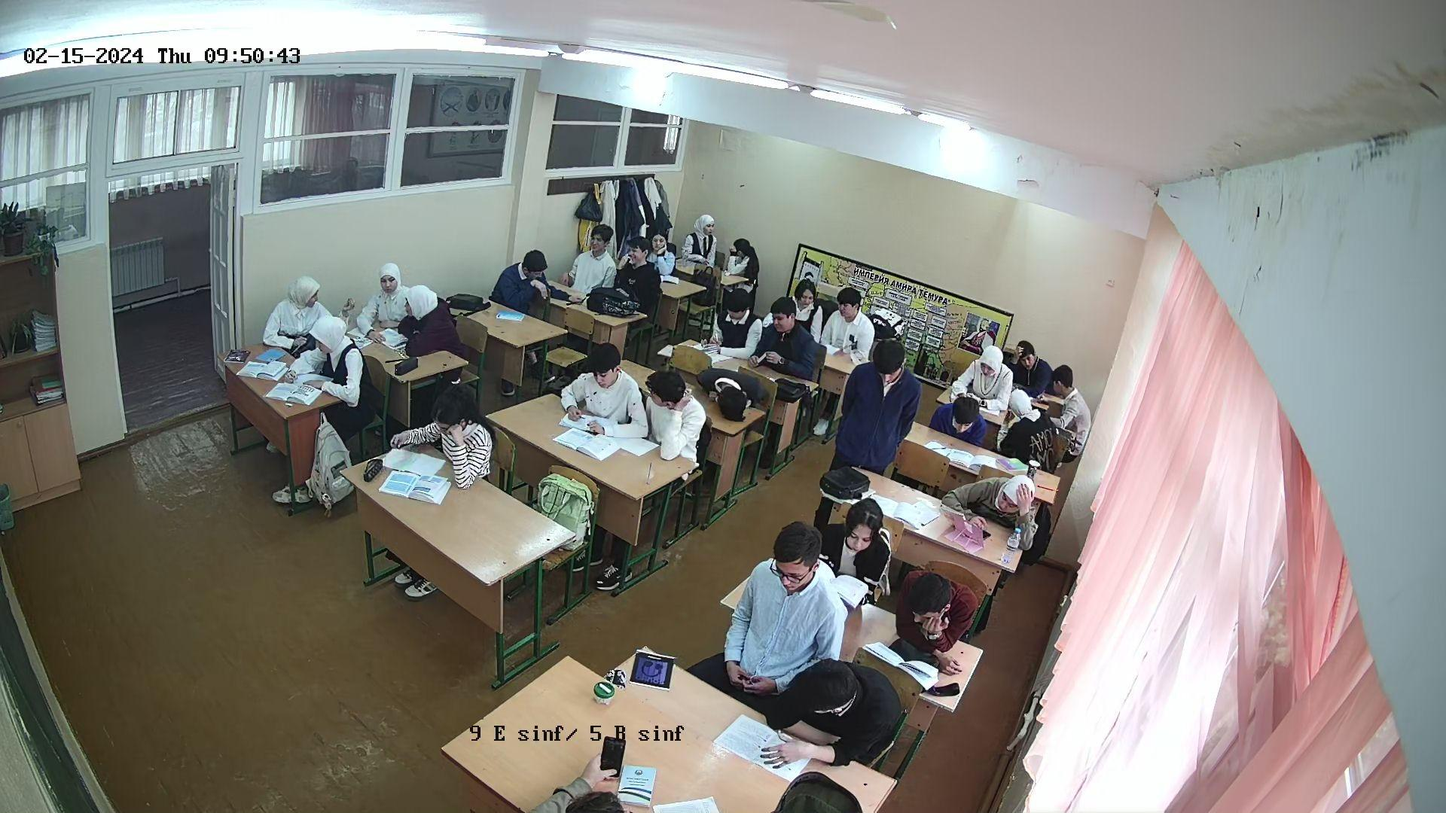Bend Over The Desk: (783, 664, 904, 759), (897, 573, 977, 670), (689, 366, 757, 420)
Look Around: (491, 241, 551, 316), (263, 279, 315, 347), (368, 262, 408, 321), (646, 361, 682, 425), (685, 215, 717, 266)
Normal: (387, 375, 502, 483), (569, 347, 640, 444), (707, 291, 755, 357)
Stand Up: (854, 339, 918, 489)
phone: (577, 733, 631, 806)
